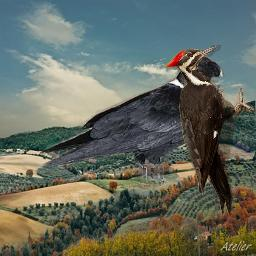Crow: (35, 54, 227, 191)
Woodpecker: (164, 45, 255, 217)
